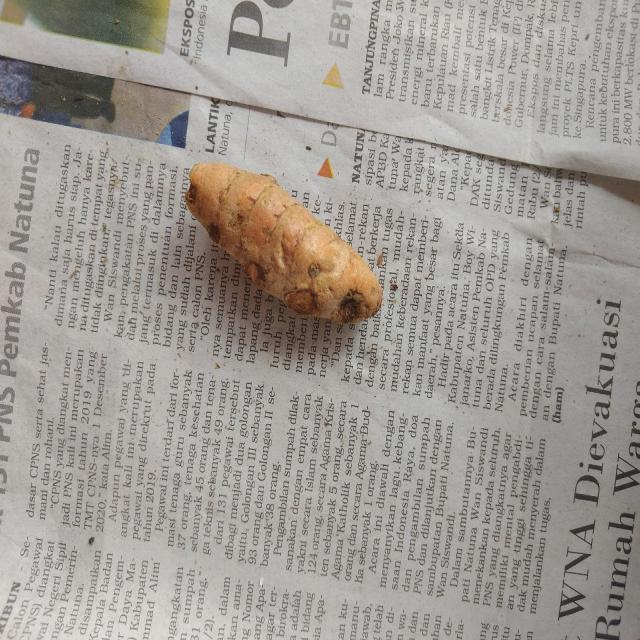ginger: (182, 144, 387, 344)
